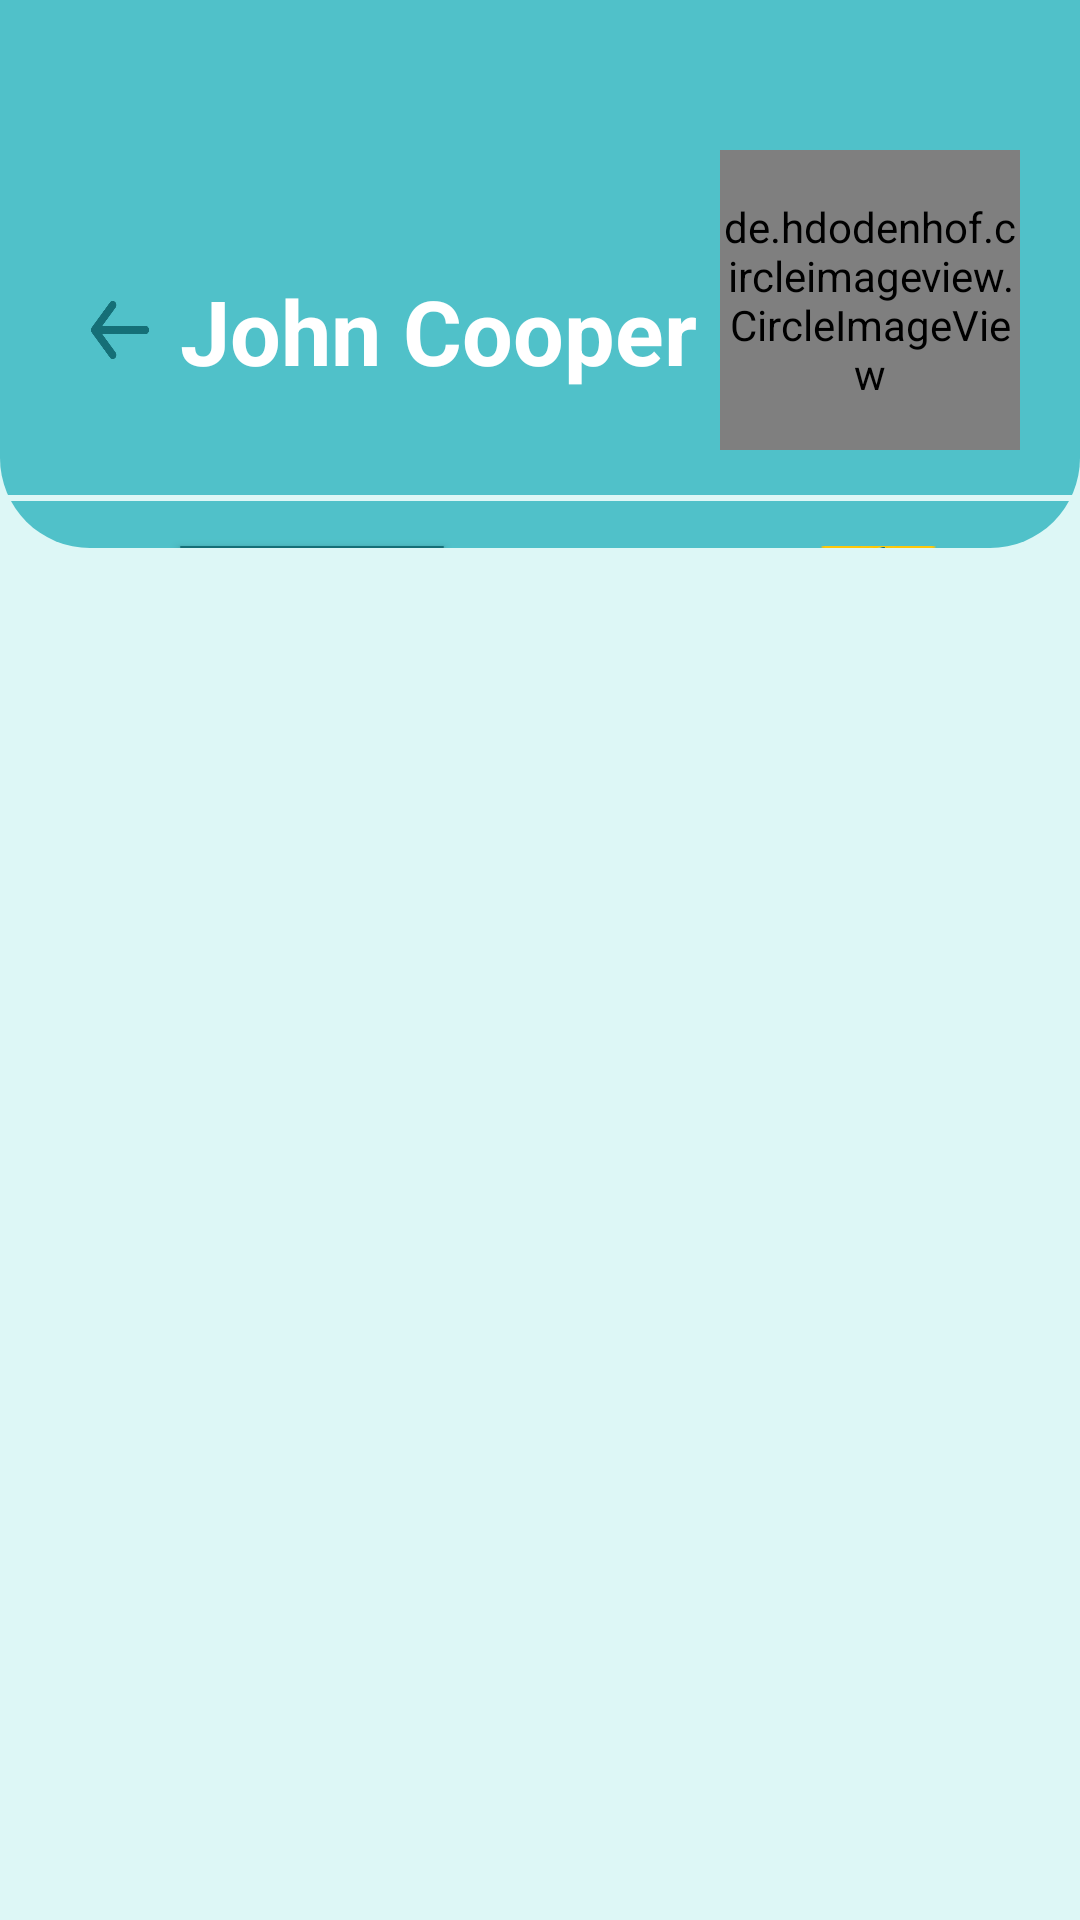

Locate icon controls on the screen. Image size 1080x1920, boxes as (x1, y1, x2, y2).
back arrow: (91, 301, 149, 359)
